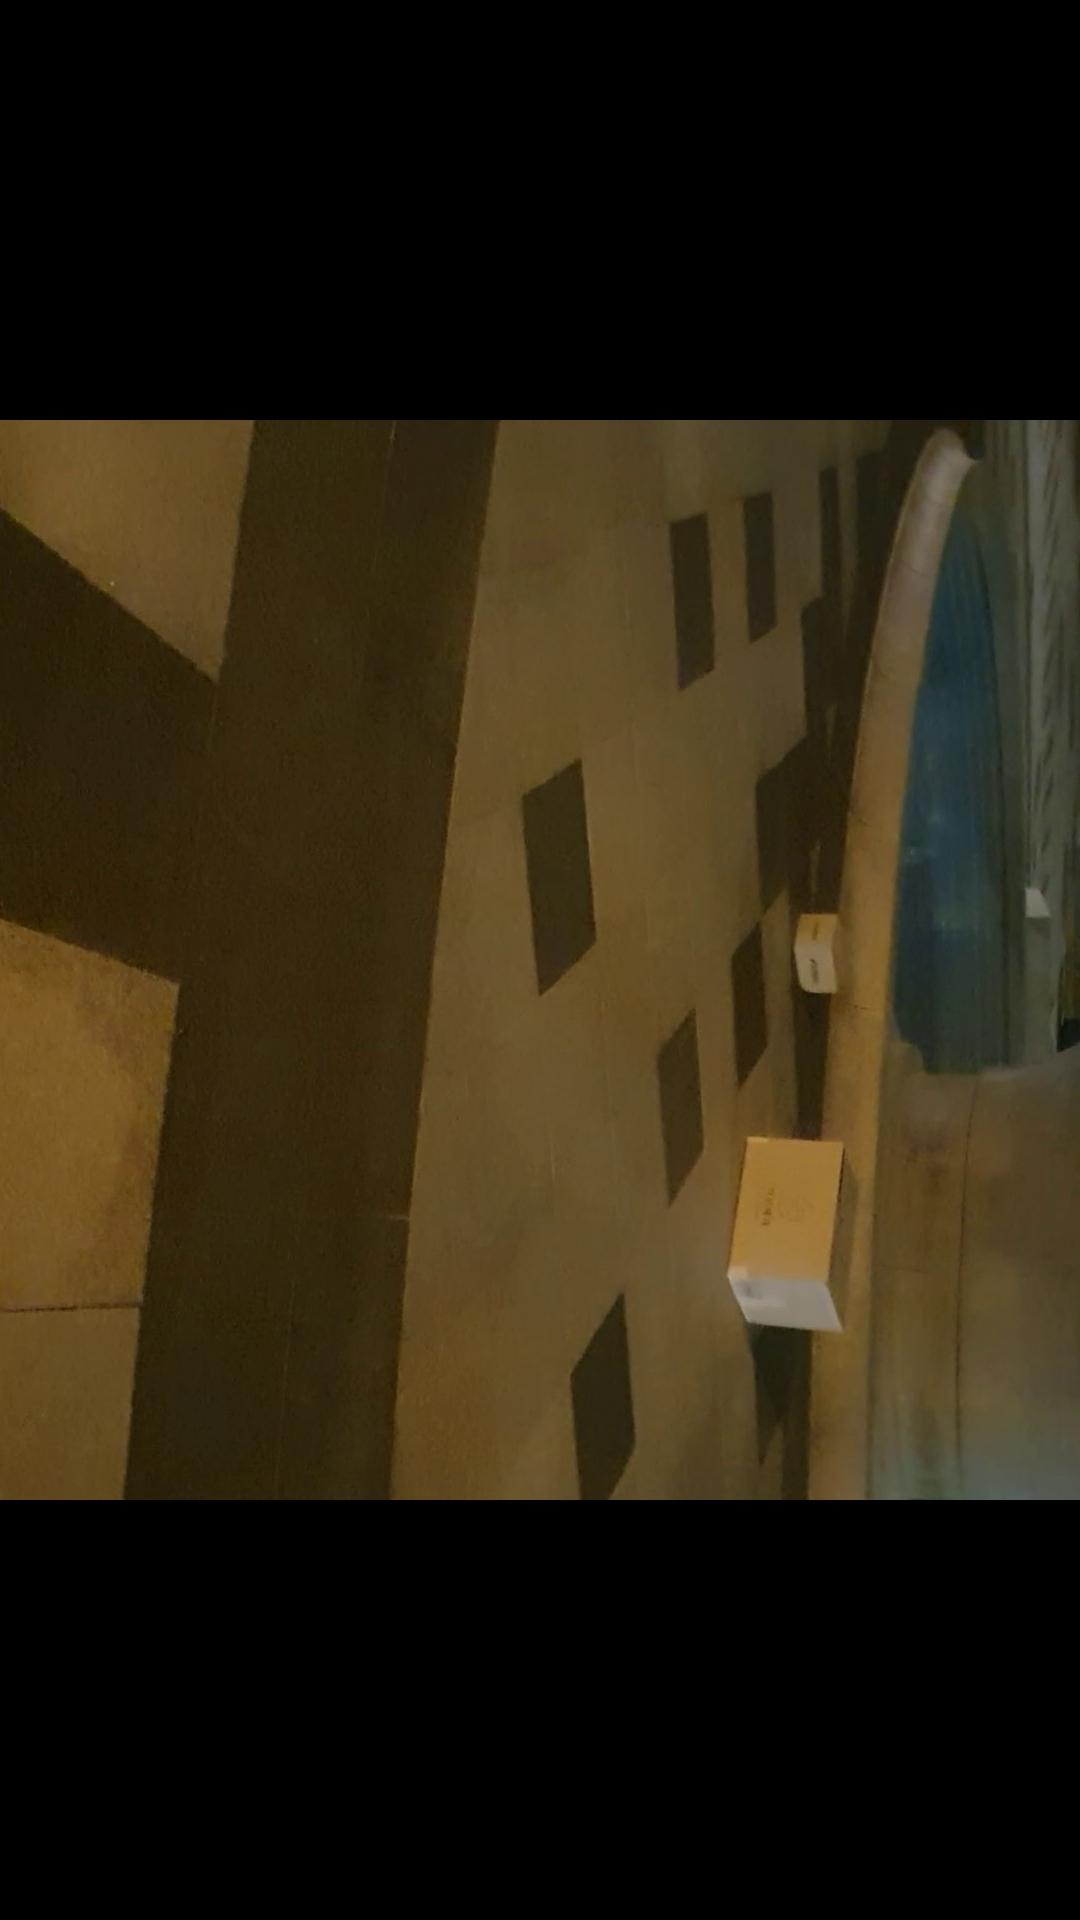Box: (713, 1124, 870, 1349), (785, 901, 865, 1005)
